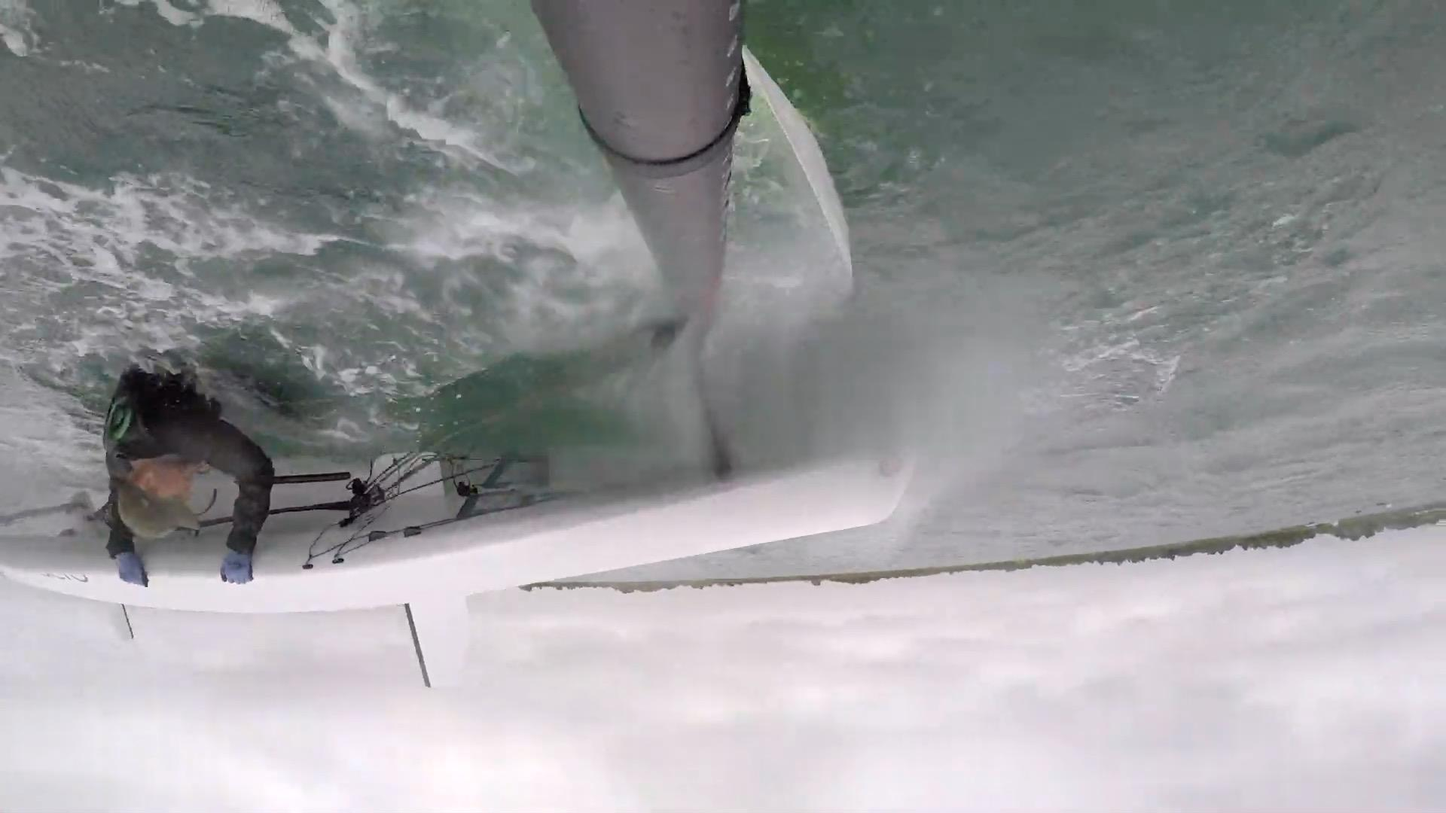boat: (0, 0, 908, 687)
land: (542, 502, 1446, 595)
person: (101, 370, 275, 583)
sea: (547, 0, 1446, 588), (0, 0, 697, 529)
sky: (0, 523, 1446, 813)
